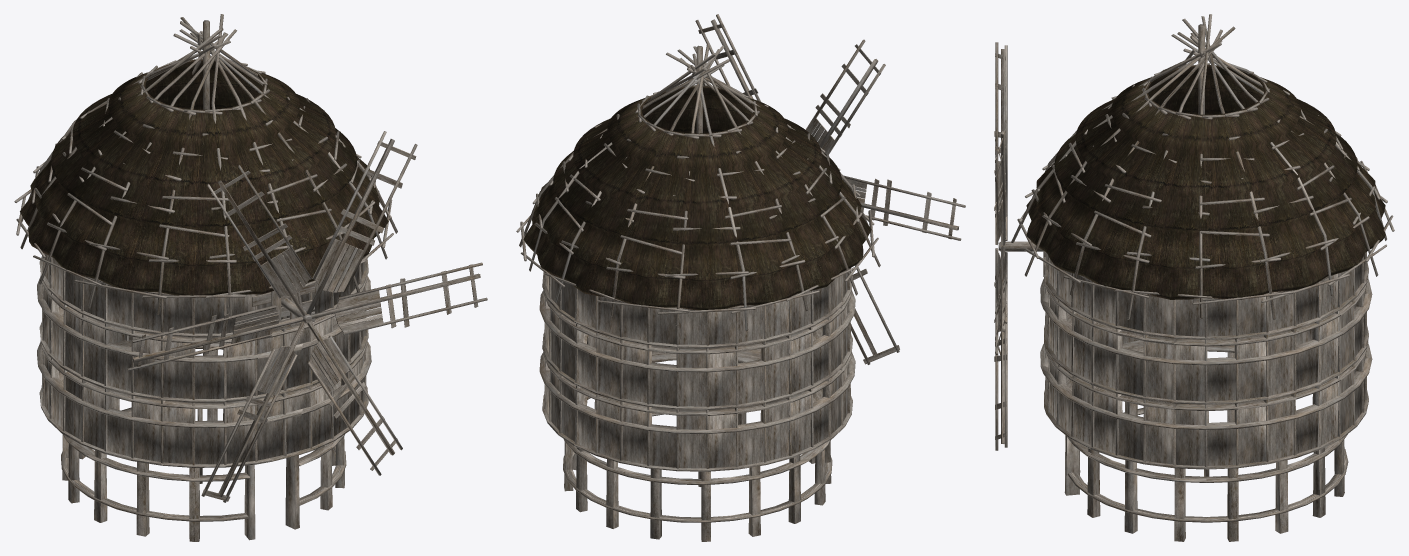
The model's file is windmill.glb.
The picture shows the model from 3 angles, left to right: view 1: azimuth 30°, elevation 25°; view 2: azimuth 150°, elevation 25°; view 3: azimuth 270°, elevation 25°; orthographic projection. The views are drawn at different scales.
Visible parts, largest first — view 1: Cylinder.001, Cylinder.002, Circle.000; view 2: Cylinder.001, Cylinder.002, Circle.000; view 3: Cylinder.001, Cylinder.002, Circle.000.
Boxes of the visible parts, x1,y1,x2,y2 form: Cylinder.001: (14, 14, 397, 541); Cylinder.002: (20, 59, 388, 297); Circle.000: (127, 131, 487, 502); Cylinder.001: (516, 43, 880, 541); Cylinder.002: (523, 86, 871, 310); Circle.000: (695, 14, 965, 364); Cylinder.001: (1011, 14, 1394, 541); Cylinder.002: (1026, 65, 1385, 299); Circle.000: (994, 42, 1045, 450).
Bounding box in the file's own units: 12.71 × 15.9 × 12.55.
2 materials, 2 textured.
